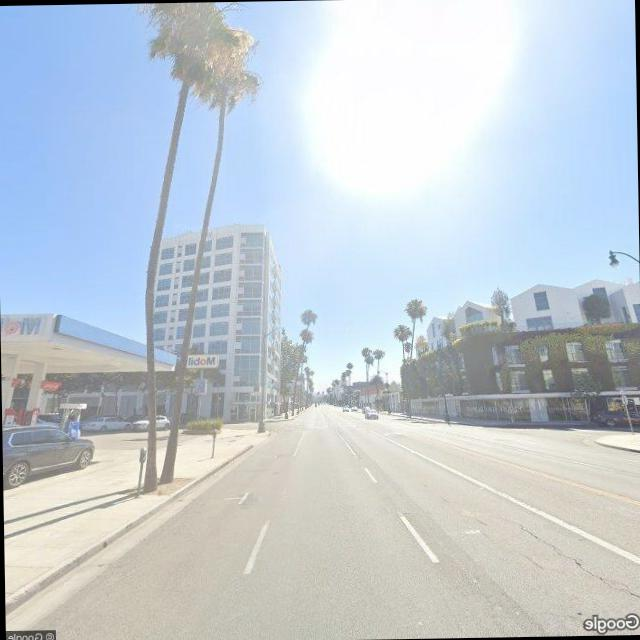pothole: (515, 515, 640, 609)
